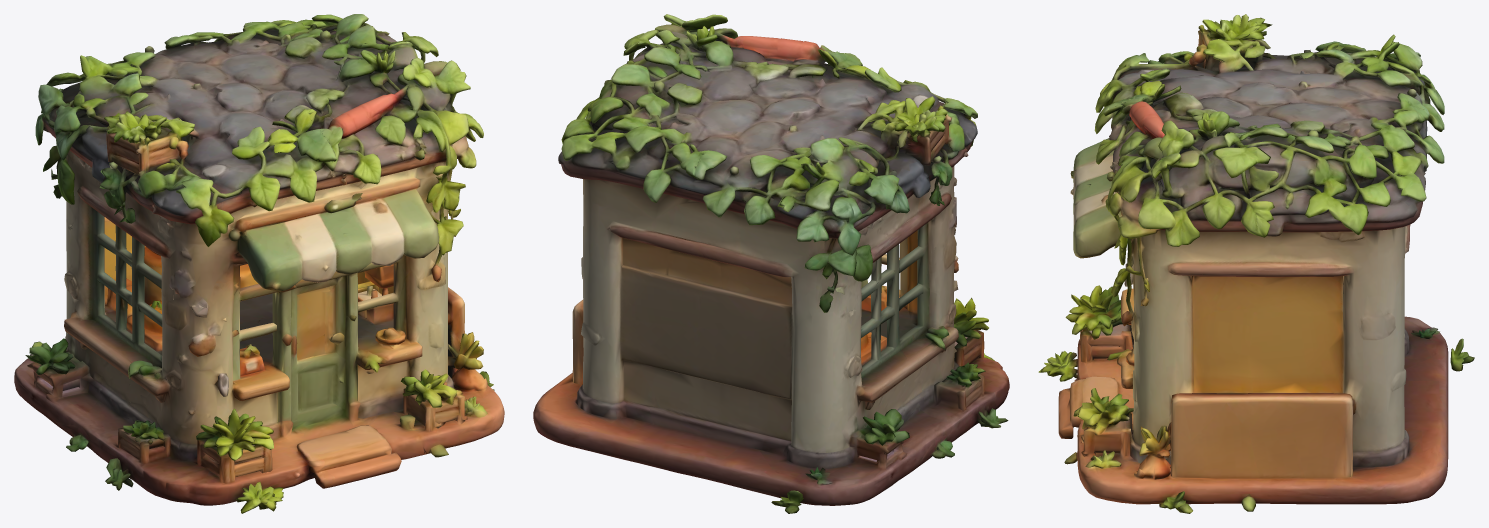
Rendered from survivor.glb.
3 views of the same model, side by side, from view 1: azimuth 30°, elevation 25°; view 2: azimuth 150°, elevation 25°; view 3: azimuth 270°, elevation 25° (orthographic). The views are drawn at different scales.
Parts seen in each view (by area): view 1: tripo_node_530a4247-a100-45eb-ac43-f520bf5e6653; view 2: tripo_node_530a4247-a100-45eb-ac43-f520bf5e6653; view 3: tripo_node_530a4247-a100-45eb-ac43-f520bf5e6653.
Boxes of the visible parts, <box> form: tripo_node_530a4247-a100-45eb-ac43-f520bf5e6653: <box>14,14,504,513</box>; tripo_node_530a4247-a100-45eb-ac43-f520bf5e6653: <box>533,14,1009,513</box>; tripo_node_530a4247-a100-45eb-ac43-f520bf5e6653: <box>1038,14,1474,513</box>.
Bounding box in the file's own units: 0.9796 × 0.8566 × 0.9598.
1 material, 1 textured.
